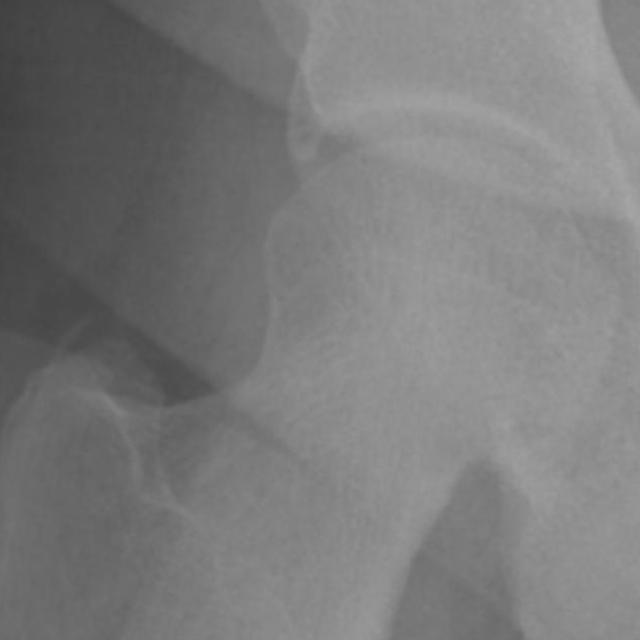Fitted_femural_head: (361, 128, 432, 361)
